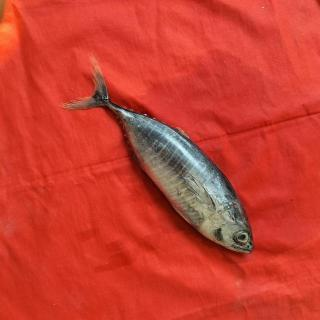Ikan: (73, 59, 265, 266)
